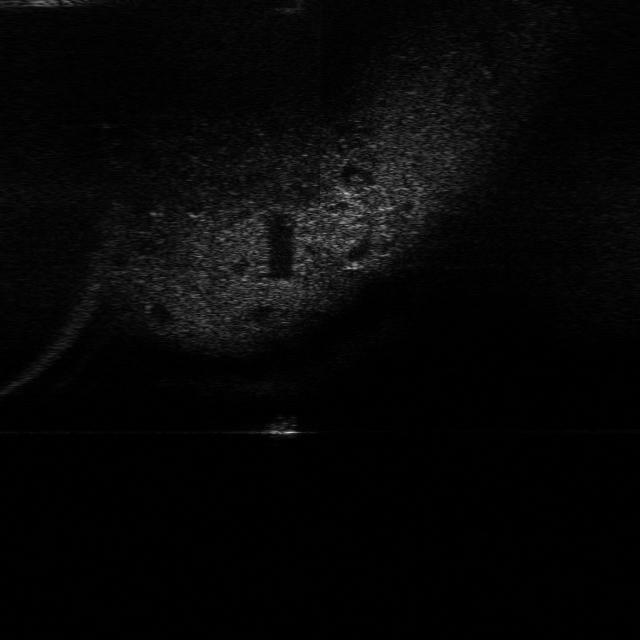cube: (253, 411, 304, 443)
